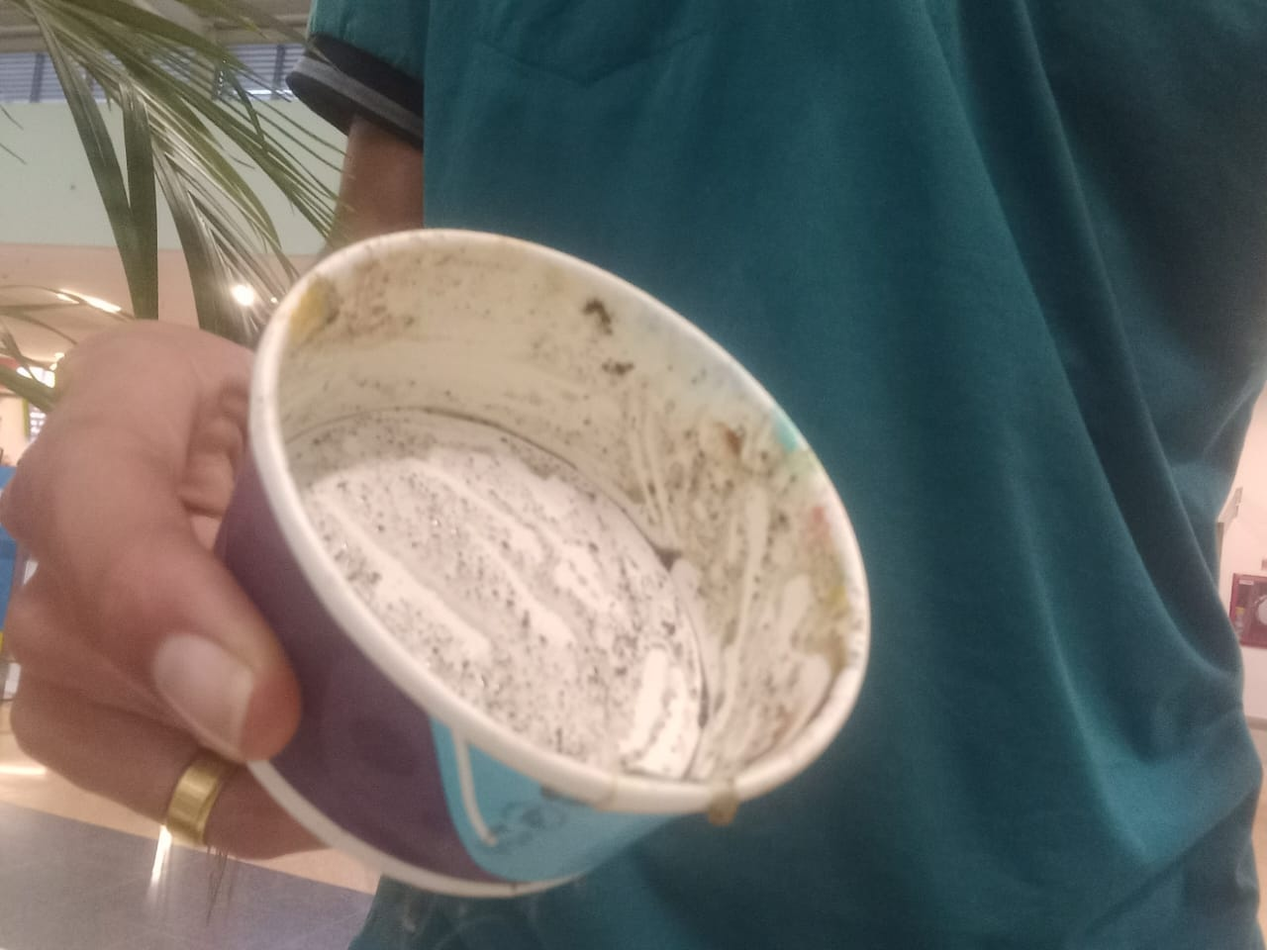Carton: (215, 228, 871, 898)
